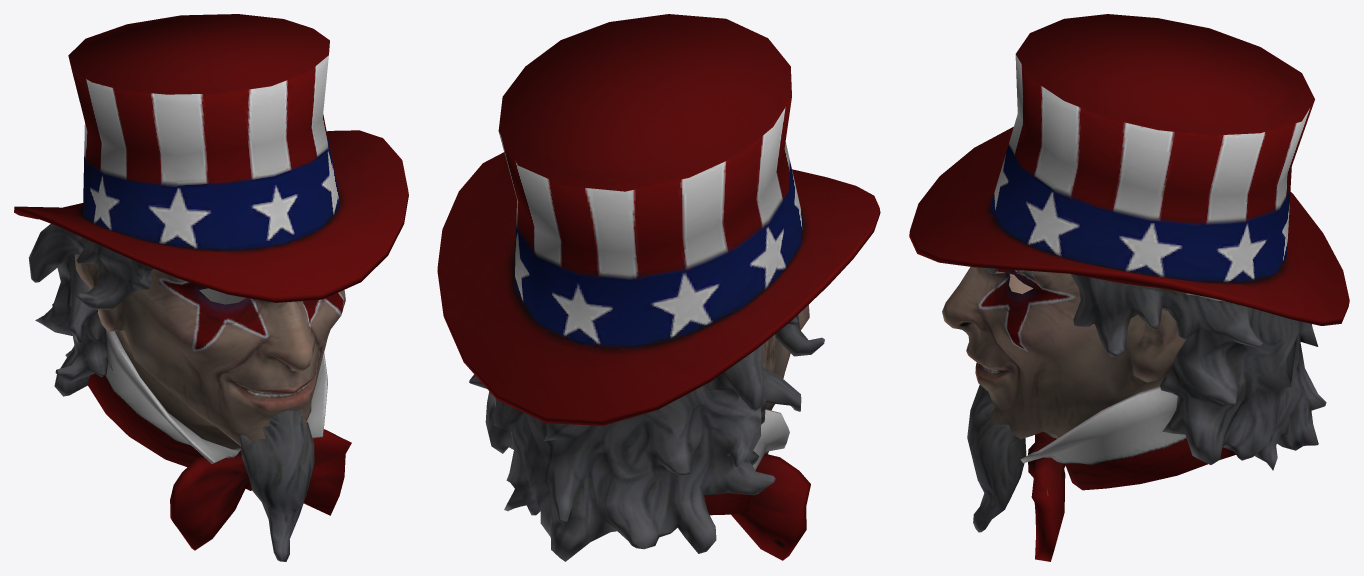
Rendered from SurvivorMale_Head_Mask_UncleSam_LOD0.glb.
3 renders of one model, left to right at view 1: azimuth 30°, elevation 25°; view 2: azimuth 150°, elevation 25°; view 3: azimuth 270°, elevation 25°, orthographic. The views are drawn at different scales.
Visible parts, largest first — view 1: Hoodie; view 2: Hoodie; view 3: Hoodie.
Boxes of the visible parts, x1,y1,x2,y2 form: Hoodie: [14, 14, 408, 561]; Hoodie: [437, 14, 880, 561]; Hoodie: [909, 14, 1349, 561].
Size of the model in its own units: 0.2798 by 0.3744 by 0.3114.
1 material, 1 textured.
